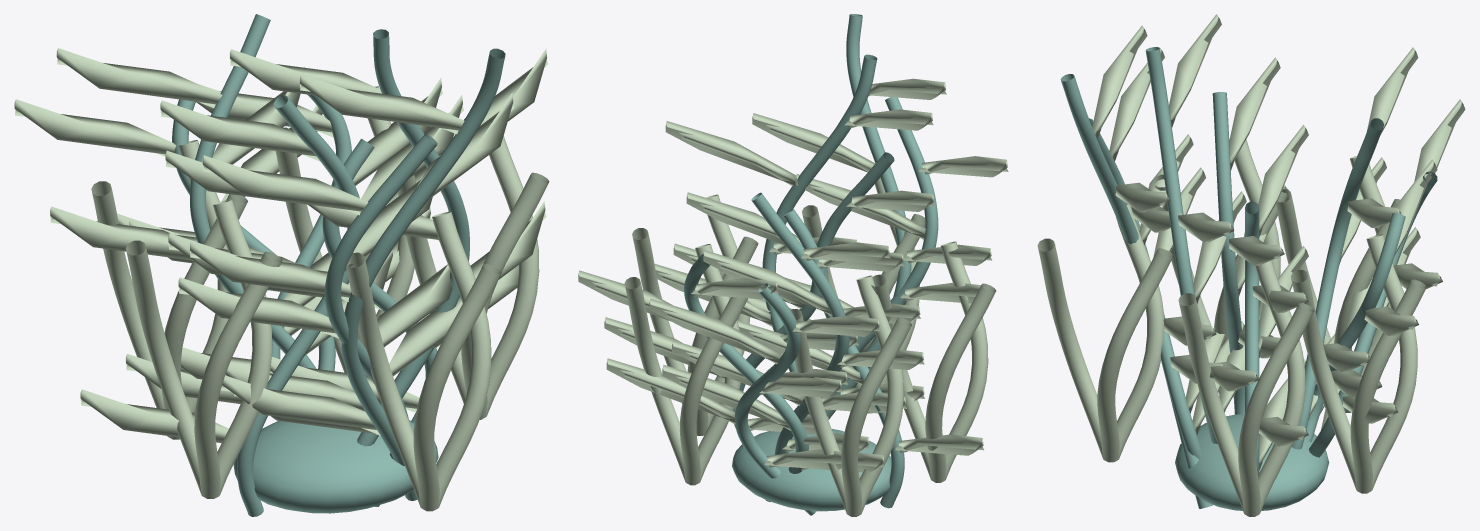
File: bio_aquatic_frond_09_near.glb
3 views of the same model, side by side, from view 1: azimuth 30°, elevation 25°; view 2: azimuth 150°, elevation 25°; view 3: azimuth 270°, elevation 25° (orthographic). The views are drawn at different scales.
Visible parts, largest first — view 1: Ruffled aquatic blade.010, Spiral filament.006, Spiral filament.012, Holdfast, Ruffled aquatic blade.035, Ruffled aquatic blade.005, Ruffled aquatic blade.020, Spiral filament, Ruffled aquatic blade.025, Flexible stipe.002, Spiral filament.003, Ruffled aquatic blade.030 (+10 smaller); view 2: Spiral filament.003, Ruffled aquatic blade.030, Spiral filament.012, Spiral filament.009, Ruffled aquatic blade.020, Ruffled aquatic blade.005, Ruffled aquatic blade.025, Ruffled aquatic blade.015, Holdfast, Ruffled aquatic blade.010, Ruffled aquatic blade.035, Spiral filament (+10 smaller); view 3: Spiral filament.006, Spiral filament, Spiral filament.009, Holdfast, Ruffled aquatic blade.025, Ruffled aquatic blade, Ruffled aquatic blade.010, Ruffled aquatic blade.035, Ruffled aquatic blade.005, Flexible stipe.001, Flexible stipe.005, Flexible stipe.004 (+10 smaller).
Part boxes in pixels (box(x1,y1,x2,y2)): Ruffled aquatic blade.010: box(189, 74, 514, 435); Spiral filament.006: box(346, 211, 501, 511); Spiral filament.012: box(126, 200, 282, 498); Holdfast: box(233, 420, 438, 513); Ruffled aquatic blade.035: box(178, 155, 462, 435); Ruffled aquatic blade.005: box(50, 48, 331, 379); Ruffled aquatic blade.020: box(80, 95, 463, 443); Spiral filament: box(397, 136, 549, 419); Ruffled aquatic blade.025: box(225, 48, 547, 411); Flexible stipe.002: box(341, 48, 505, 500); Spiral filament.003: box(91, 140, 247, 439); Ruffled aquatic blade.030: box(14, 99, 431, 370); Spiral filament.003: box(791, 275, 911, 516); Ruffled aquatic blade.030: box(606, 298, 880, 469); Spiral filament.012: box(871, 241, 996, 482); Spiral filament.009: box(624, 244, 747, 485); Ruffled aquatic blade.020: box(686, 190, 983, 455); Ruffled aquatic blade.005: box(672, 242, 924, 452); Ruffled aquatic blade.025: box(654, 109, 933, 412); Ruffled aquatic blade.015: box(578, 270, 884, 472); Holdfast: box(732, 429, 891, 511); Ruffled aquatic blade.010: box(752, 78, 992, 400); Ruffled aquatic blade.035: box(747, 156, 1008, 413); Spiral filament: box(632, 194, 758, 435); Spiral filament.006: box(1037, 203, 1173, 462); Spiral filament: box(1178, 260, 1314, 516); Spiral filament.009: box(1290, 234, 1426, 493); Holdfast: box(1175, 414, 1329, 510); Ruffled aquatic blade.025: box(1169, 14, 1260, 412); Ruffled aquatic blade: box(1252, 125, 1308, 470); Ruffled aquatic blade.010: box(1092, 25, 1226, 413); Ruffled aquatic blade.035: box(1109, 47, 1244, 435); Ruffled aquatic blade.005: box(1308, 47, 1418, 419); Flexible stipe.001: box(1291, 118, 1384, 449); Flexible stipe.005: box(1145, 47, 1217, 443); Flexible stipe.004: box(1212, 92, 1244, 414).
Bounding box in the file's own units: 1.8 × 1.89 × 1.66.
